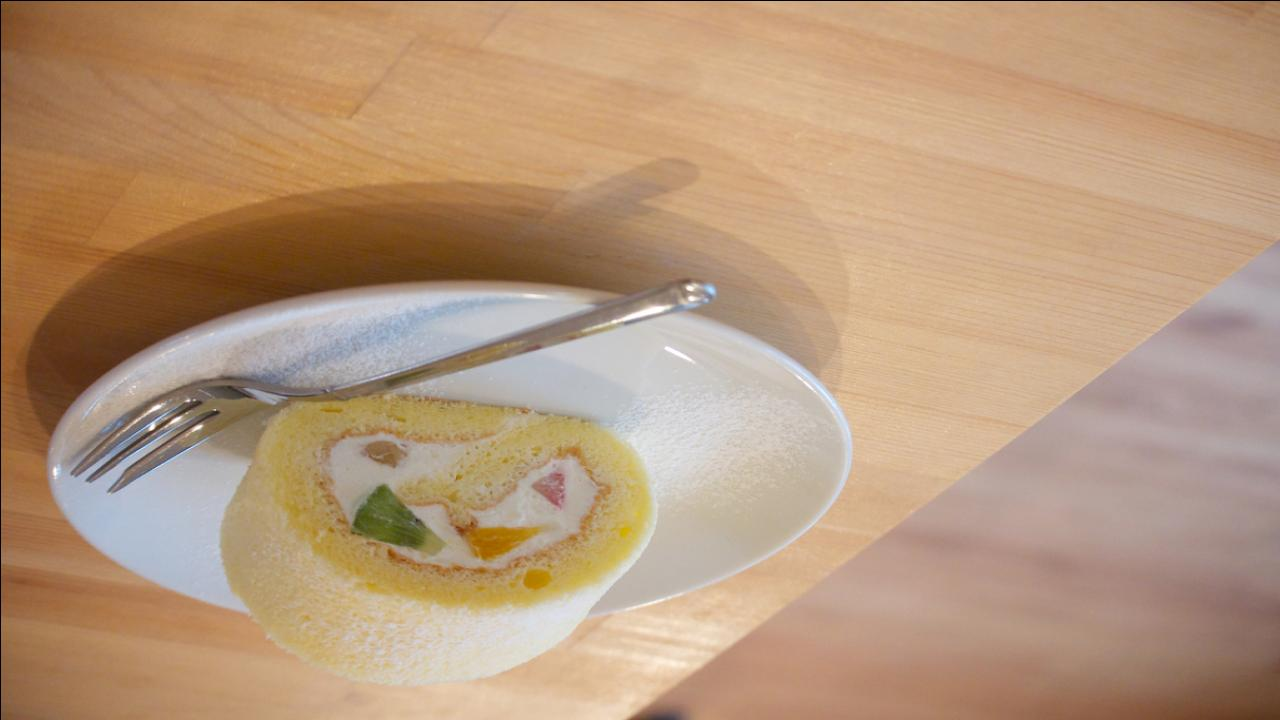fork: (68, 272, 722, 492)
